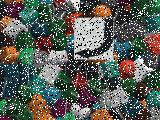Right: (74, 18, 114, 60)
